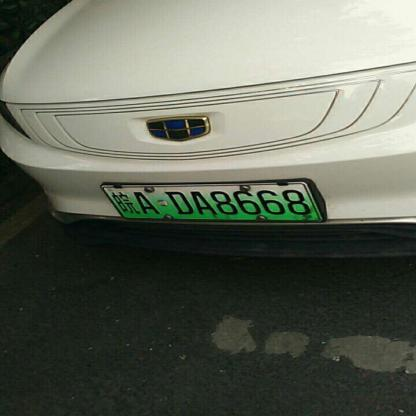lp: (103, 182, 320, 219)
